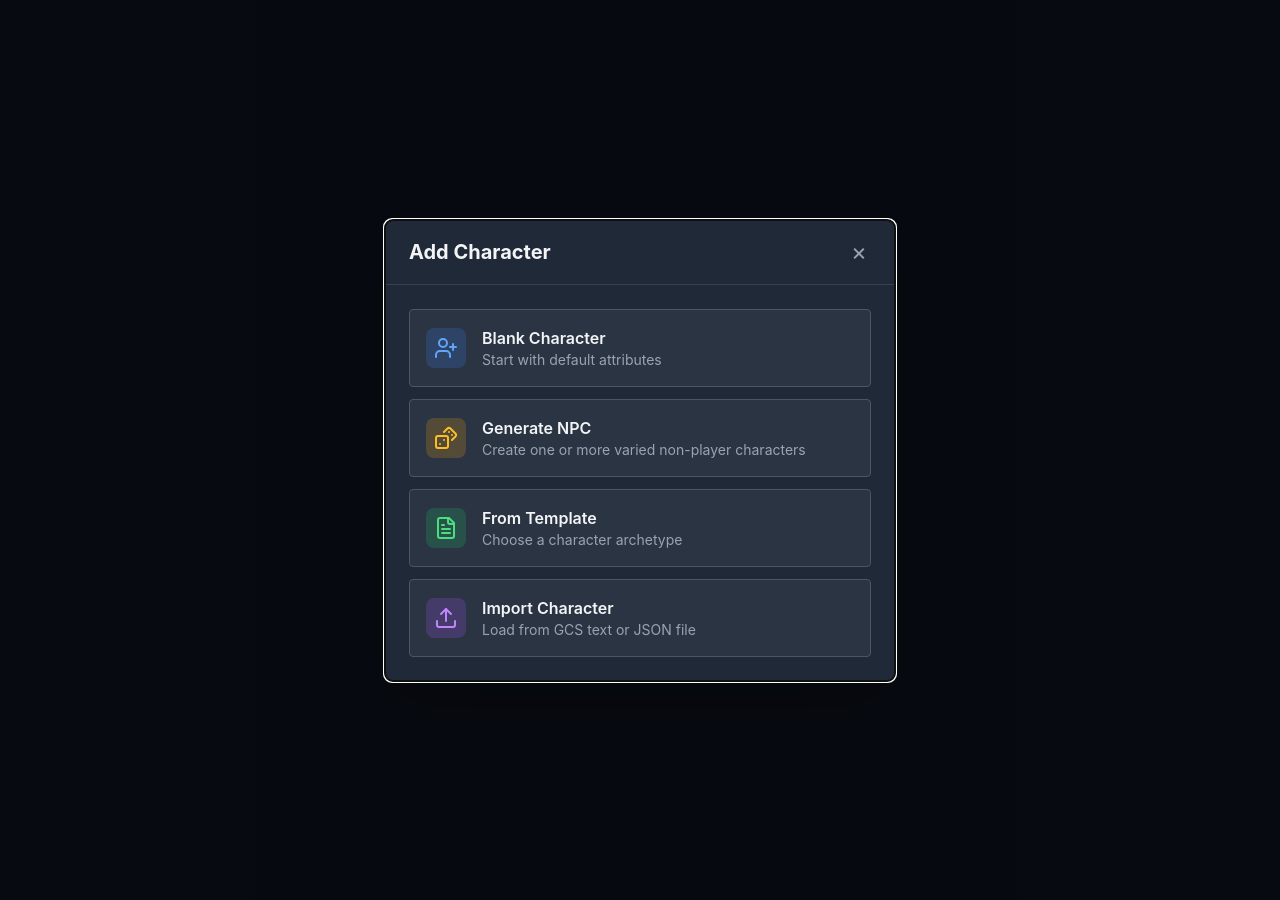
Test: CharacterCreationModal › navigates to template step and shows templates
This screenshot has width=1280, height=900.
What coordinates should you click on to do the following:
click the text "From Template"
I would click on:
 (539, 518)
Its box is [482,508,597,528].
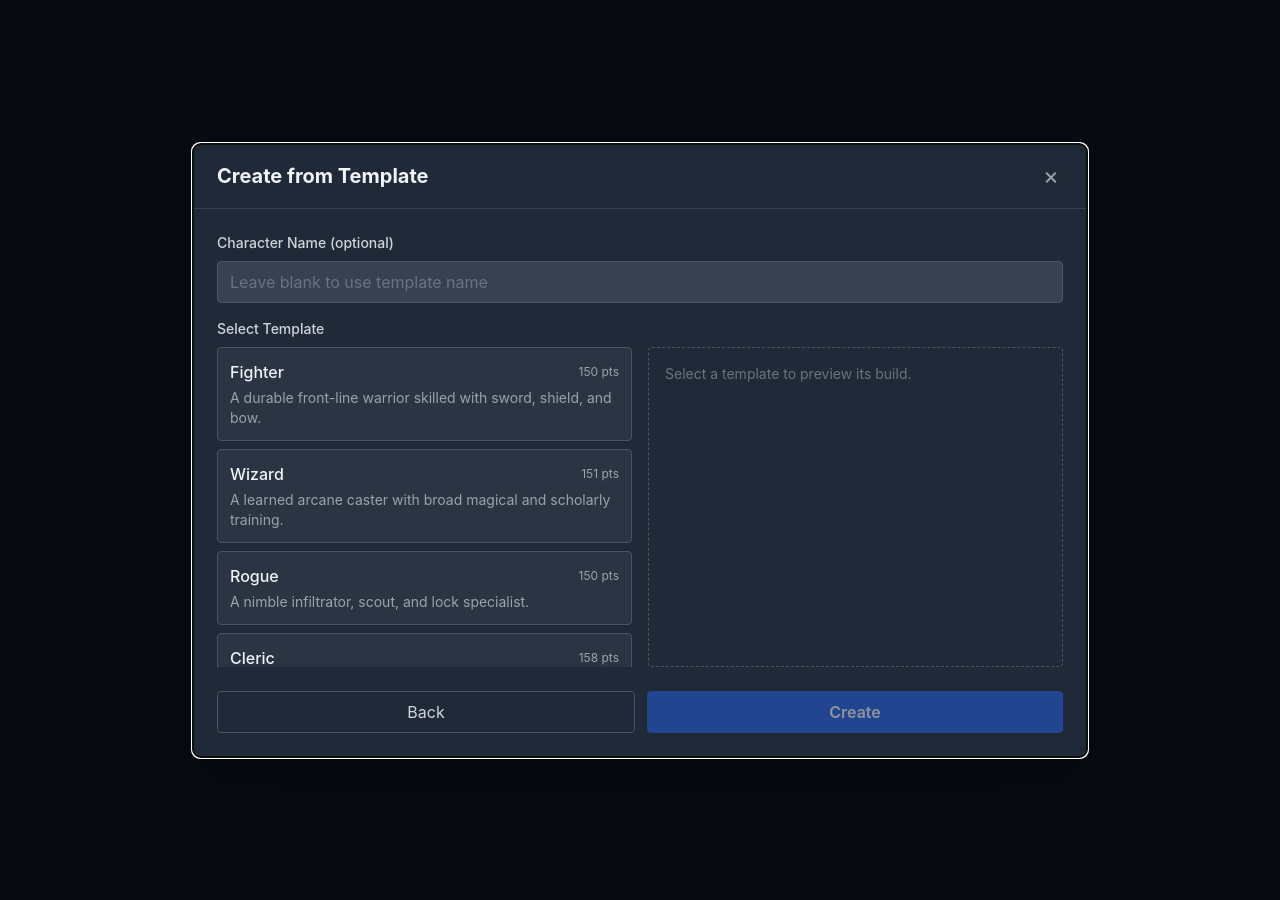
Expected: the heading "Create from Template" is shown, [217,162,428,190]
Expected: the text "Select Template" is shown, [217,320,324,336]
